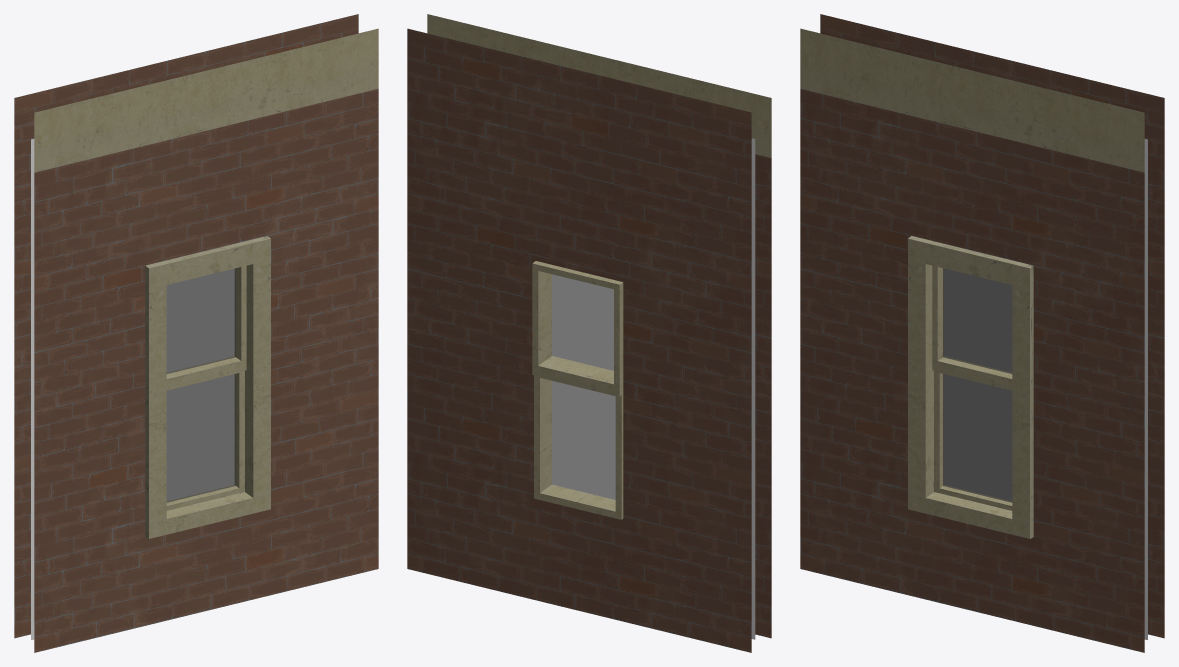
The model's file is Brick_Window_Square_Single.gltf.
3 views of the same model, side by side, from view 1: azimuth 30°, elevation 25°; view 2: azimuth 150°, elevation 25°; view 3: azimuth 330°, elevation 25° (orthographic).
Parts seen in each view (by area): view 1: Brick_Window_Square_Single; view 2: Brick_Window_Square_Single; view 3: Brick_Window_Square_Single.
Part boxes in pixels (x1,y1,x2,y2): Brick_Window_Square_Single: (14, 14, 378, 652); Brick_Window_Square_Single: (407, 14, 771, 652); Brick_Window_Square_Single: (800, 14, 1164, 652).
Bounding box in the file's own units: 2 × 3 × 0.271.
5 materials, 3 textured.
